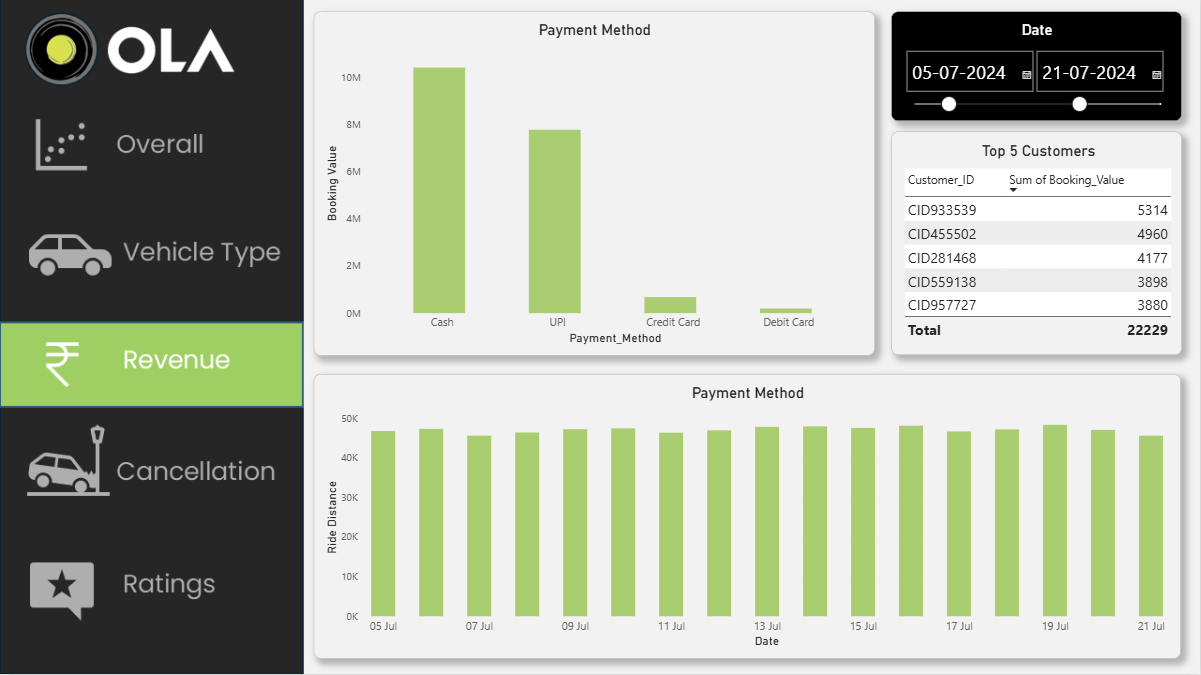

What the dashboard file says about the page in this screenshot:
{"tool":"powerbi","page":{"name":"Revenue","canvas":[1920,1080],"ordinal":2},"visuals":[{"type":"actionButton","box":[0,340,484,134],"z":0},{"type":"actionButton","box":[0,676,484,134],"z":1000},{"type":"actionButton","box":[0,872,484,134],"z":2000},{"type":"actionButton","box":[0,170,484,134],"z":3000},{"type":"columnChart","title":"Payment Method","fields":{"Category":["July.Payment_Method"],"Y":["Sum(July.Booking_Value)"]},"box":[502.5,20,897.5,550],"z":4000},{"type":"columnChart","title":"Payment Method","fields":{"Category":["July.Date"],"Y":["Sum(July.Ride_Distance)"]},"box":[502.5,600,1387.5,455],"z":5000},{"type":"slicer","title":"Date","fields":{"Values":["July.Date"]},"box":[1425,20,465,175],"z":6000},{"type":"tableEx","title":"Top 5 Customers","fields":{"Values":["July.Customer_ID","Sum(July.Booking_Value)"]},"box":[1425,212.5,465,357.5],"z":7000}]}

Visuals, with their boxes in screenshot pixels (x1, y1, x2, y2), scaled from the page's 1920x1080 canvas onto the 1201x675 screenshot:
actionButton: (x1=0, y1=212, x2=303, y2=296)
actionButton: (x1=0, y1=422, x2=303, y2=506)
actionButton: (x1=0, y1=545, x2=303, y2=629)
actionButton: (x1=0, y1=106, x2=303, y2=190)
"Payment Method" columnChart: (x1=314, y1=12, x2=876, y2=356)
"Payment Method" columnChart: (x1=314, y1=375, x2=1182, y2=659)
"Date" slicer: (x1=891, y1=12, x2=1182, y2=122)
"Top 5 Customers" tableEx: (x1=891, y1=133, x2=1182, y2=356)
